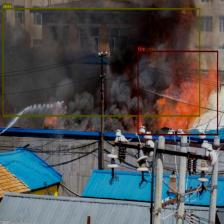fire: (138, 51, 218, 135)
smoke: (2, 8, 200, 116)
